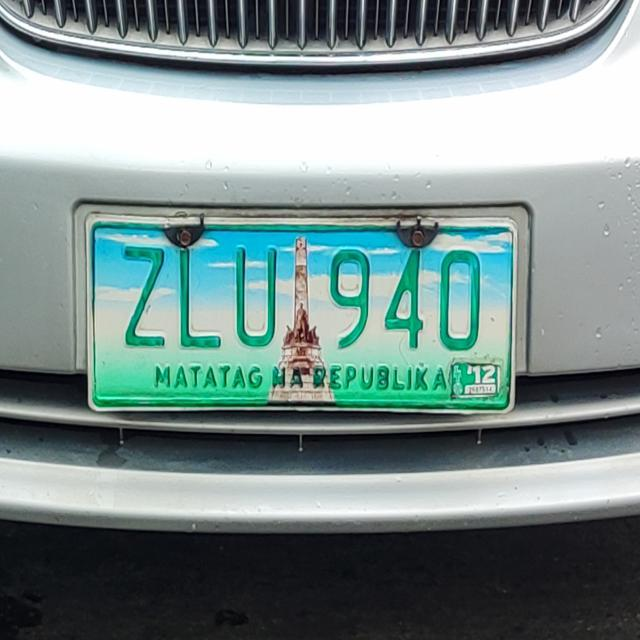LicensePlate: (57, 201, 544, 417)
